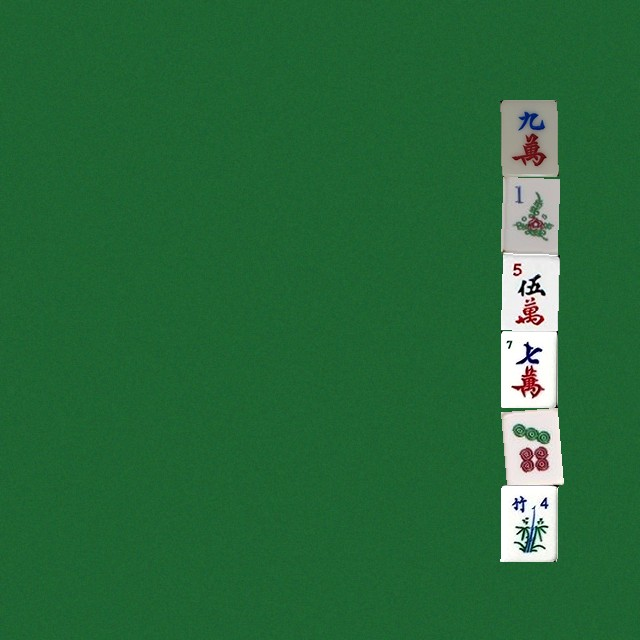tile: (500, 99, 557, 176), (500, 176, 557, 253), (500, 253, 557, 330), (500, 330, 557, 407), (500, 407, 557, 484), (500, 484, 557, 561)
